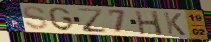7: (107, 9, 128, 34)
G: (48, 6, 76, 32)
H: (133, 10, 165, 37)
K: (163, 12, 188, 37)
S: (22, 5, 49, 31)
Z: (76, 7, 109, 34)
